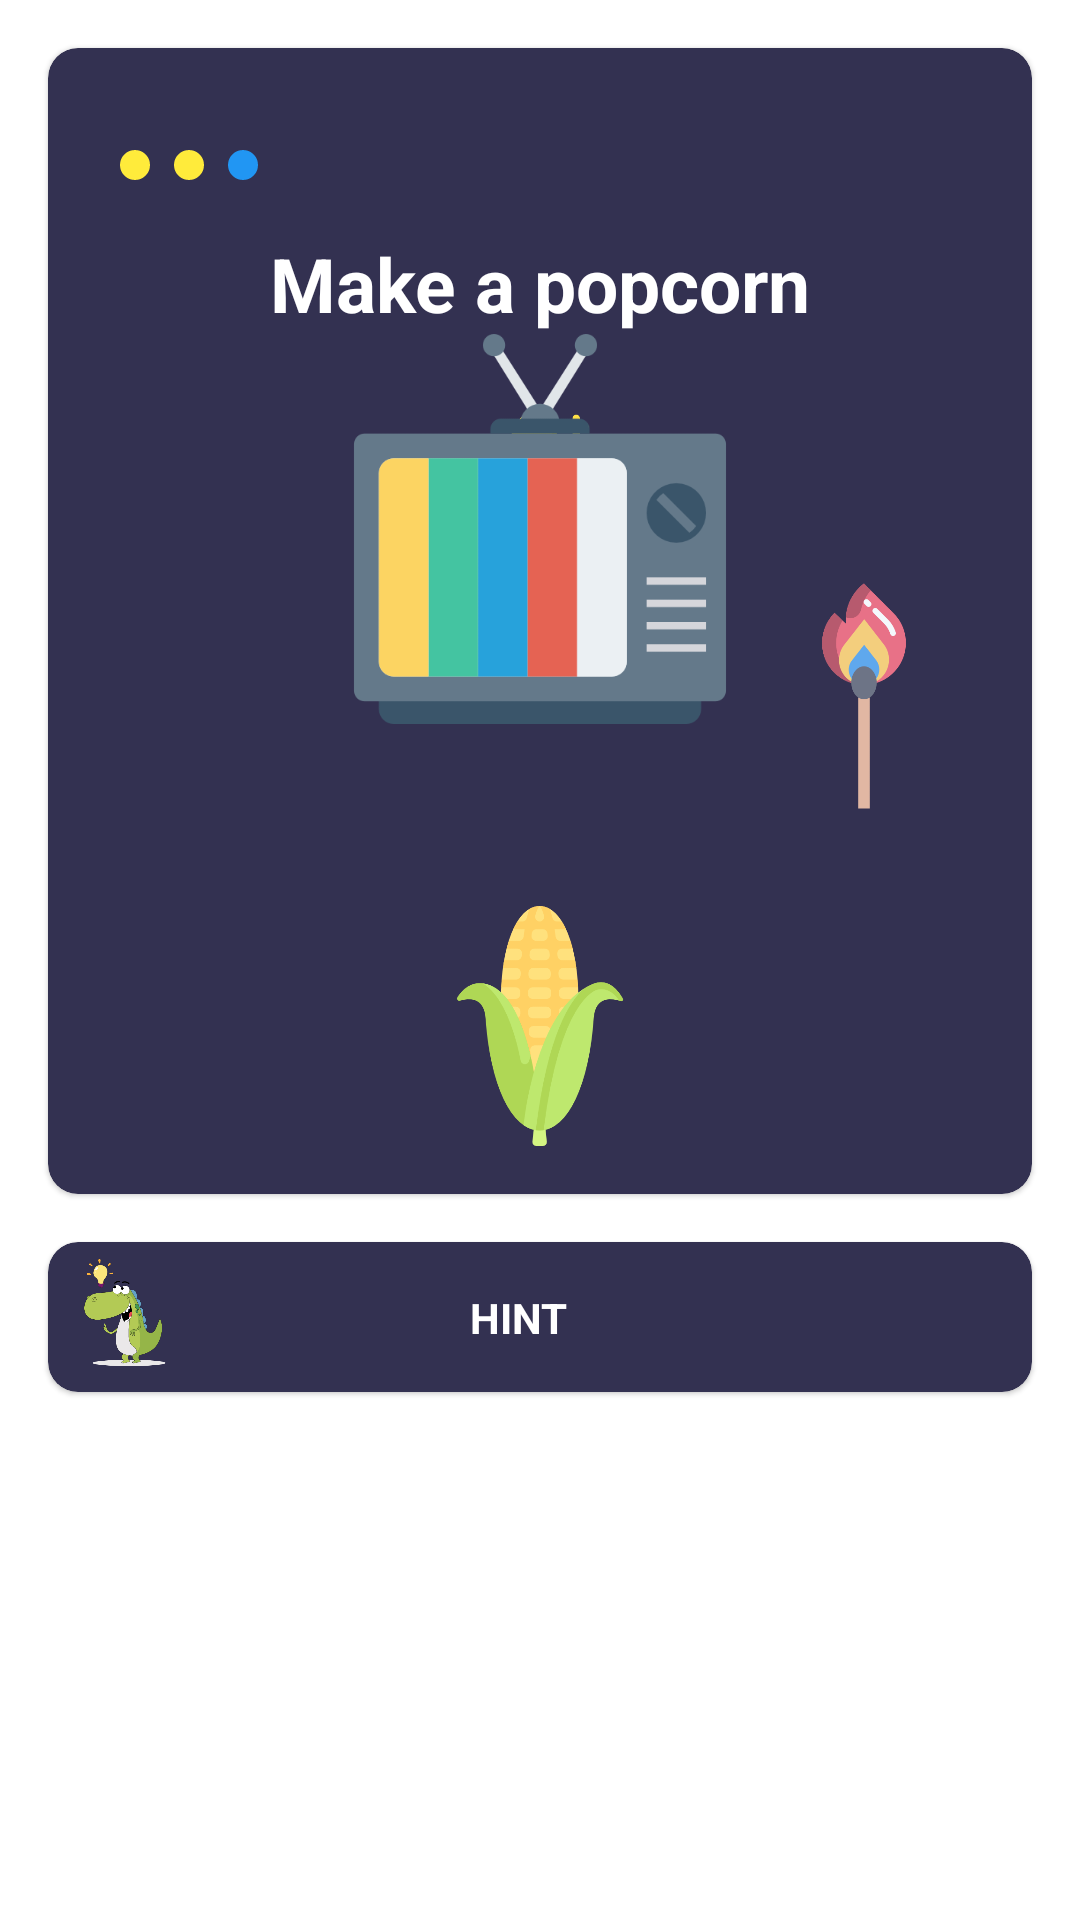

Icon click points for this 1080×1920 phone screenshot, format point (x, y):
corn: point (540, 1026)
idea: point (123, 1317)
matches: point (864, 696)
